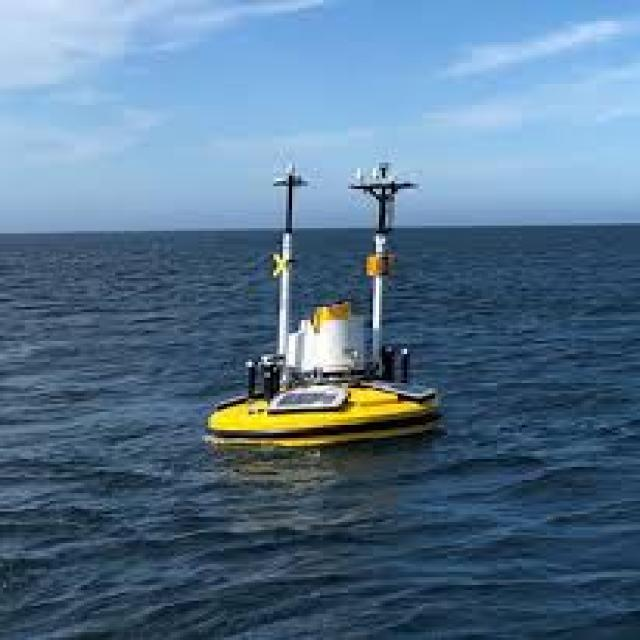marque: (199, 145, 452, 455)
